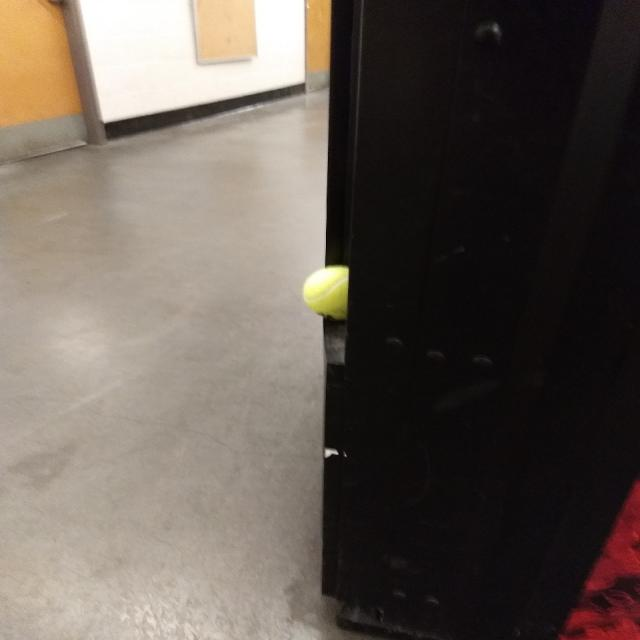Tennis-Ball: (302, 263, 356, 319)
